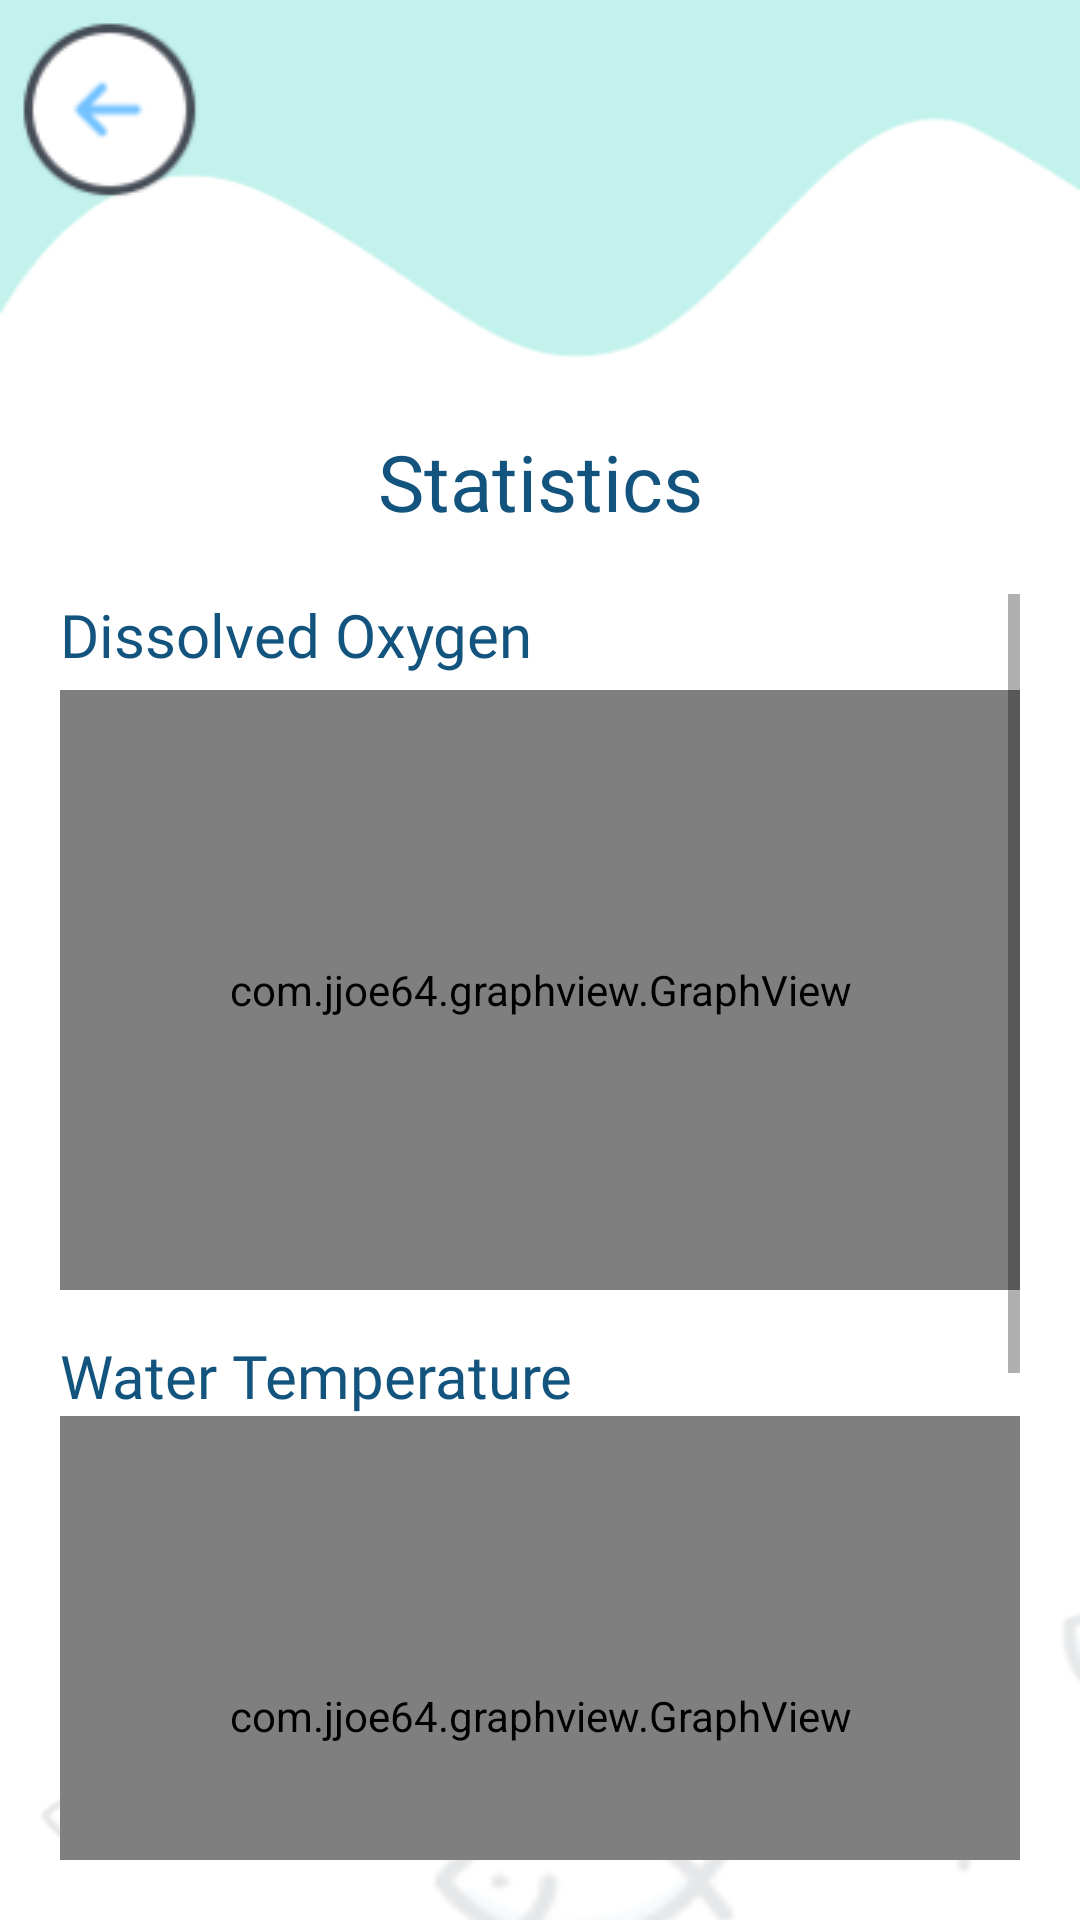

Icons on this 1080×1920 Android screen, each with its box as BBox(x1, y1, x2, y2):
back: BBox(23, 23, 204, 204)
